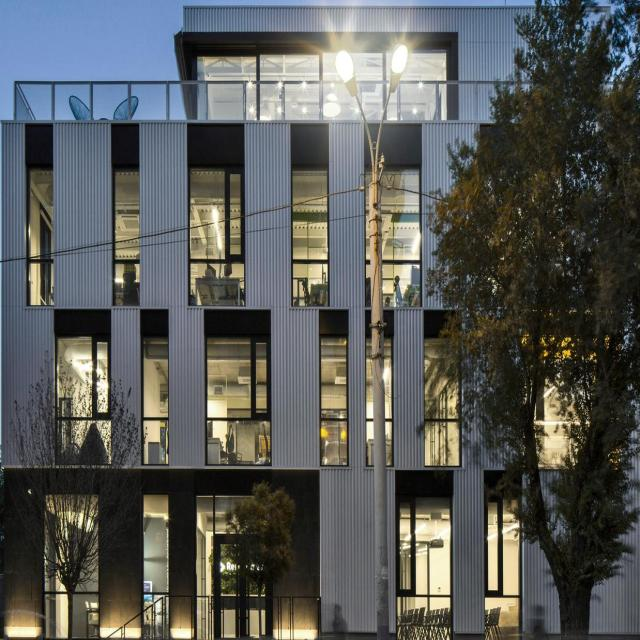door: (212, 531, 272, 639)
railing: (13, 81, 494, 122)
window: (197, 495, 272, 637), (203, 314, 270, 465), (188, 166, 244, 306), (197, 51, 448, 82), (47, 495, 97, 639), (399, 503, 451, 639), (59, 335, 109, 462), (290, 169, 329, 307), (383, 165, 422, 303), (488, 499, 523, 638), (425, 338, 463, 465), (321, 311, 347, 463), (144, 493, 171, 639), (28, 170, 53, 306), (142, 332, 167, 464), (114, 170, 138, 306)
